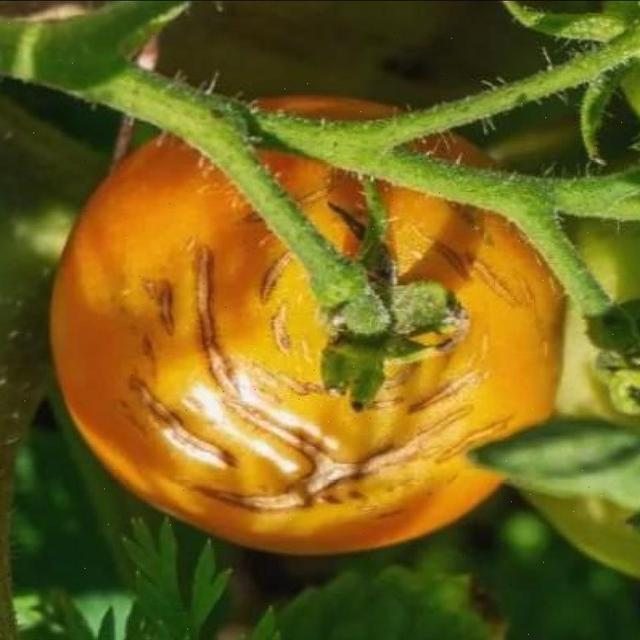Cracking Fruit: (76, 153, 337, 348)
